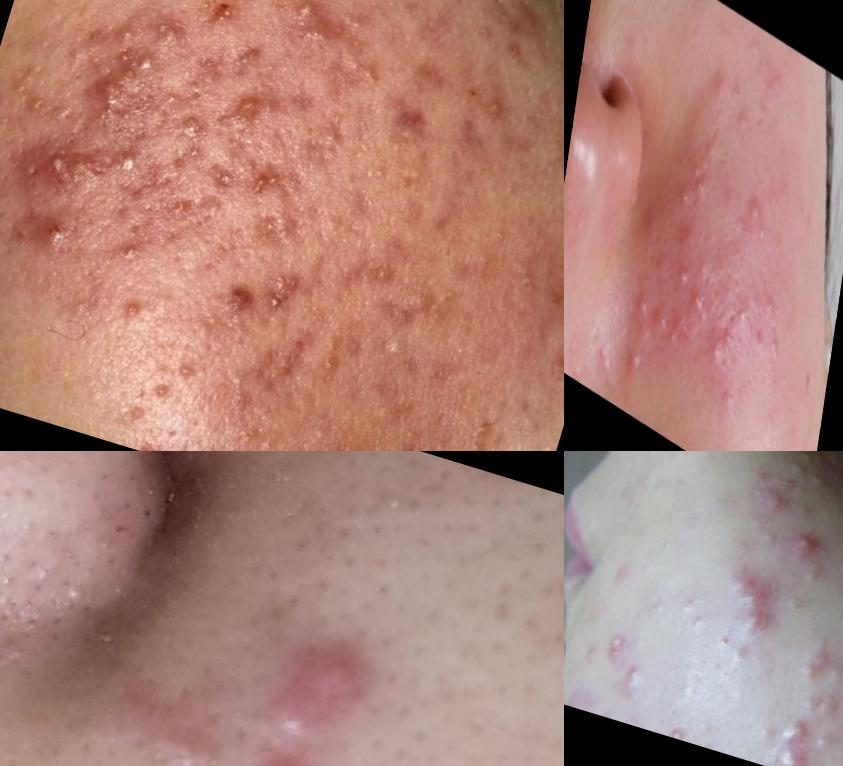acne_scars: (249, 332, 319, 419), (459, 1, 565, 54), (375, 89, 442, 165), (342, 246, 409, 293)
blackhead: (4, 571, 114, 664), (90, 479, 175, 566), (1, 520, 55, 609), (1, 574, 27, 665)
cystic: (723, 563, 783, 617)
papular: (111, 661, 212, 764), (263, 631, 346, 744), (20, 202, 78, 264), (226, 77, 271, 144), (236, 745, 341, 766), (717, 310, 743, 361), (719, 377, 742, 429), (693, 242, 715, 290), (676, 215, 696, 258), (747, 188, 766, 233), (645, 205, 664, 248), (714, 62, 732, 107)
purulent: (151, 8, 205, 68), (155, 100, 212, 153), (658, 711, 708, 745), (776, 711, 814, 752), (290, 1, 337, 34), (802, 641, 835, 688), (736, 611, 774, 646), (689, 153, 711, 206), (654, 294, 675, 342), (688, 282, 709, 328), (629, 334, 649, 381), (636, 283, 655, 328), (793, 529, 820, 557), (675, 255, 694, 294), (707, 333, 726, 371), (680, 179, 697, 218), (666, 323, 684, 357), (782, 749, 800, 766)
sebo-crystan-conglo: (30, 137, 128, 209), (241, 257, 316, 331), (92, 36, 153, 118), (747, 483, 792, 521), (603, 624, 635, 665)
whitehead: (122, 373, 184, 445), (456, 402, 523, 452), (110, 232, 159, 286), (113, 290, 164, 335), (785, 462, 831, 497), (572, 202, 597, 250), (594, 335, 615, 382), (748, 452, 825, 464), (753, 214, 774, 255), (761, 70, 781, 113), (764, 177, 783, 222), (734, 294, 753, 339), (656, 242, 675, 284), (734, 101, 751, 147), (797, 452, 838, 471), (763, 283, 780, 319), (748, 31, 765, 64), (771, 329, 785, 363), (574, 356, 587, 380)
